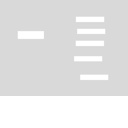square: (15, 28, 46, 41), (77, 71, 110, 82), (71, 52, 103, 63), (73, 38, 106, 48), (74, 14, 105, 24), (75, 26, 106, 36)
